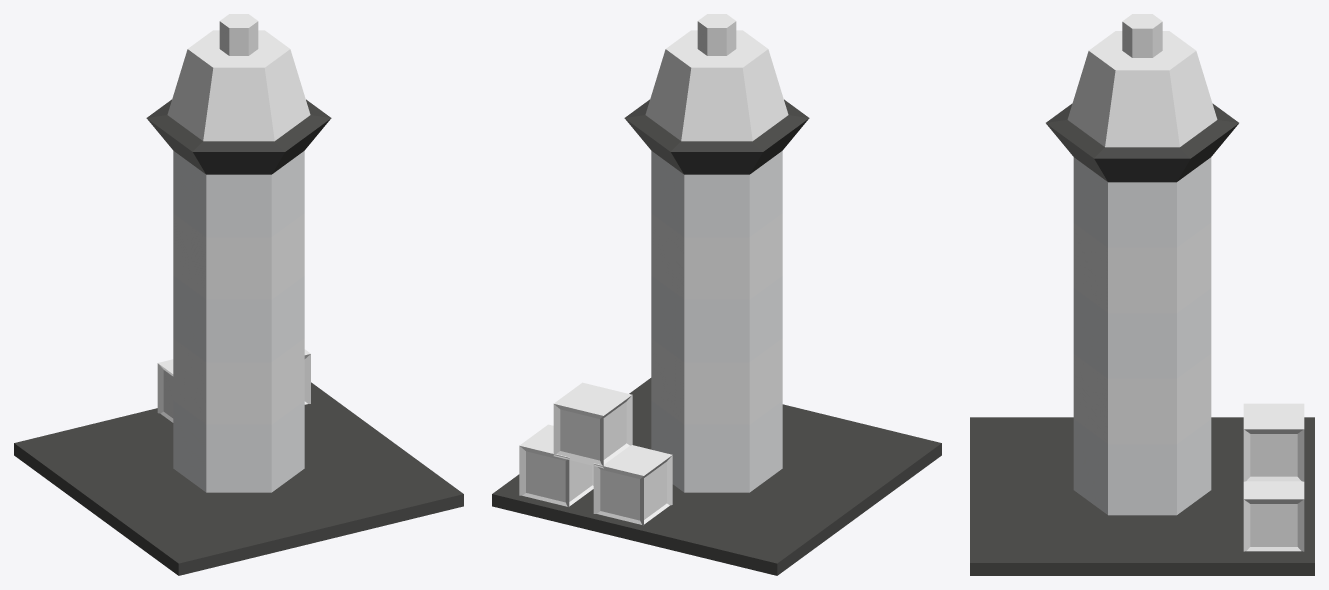
The model's file is Port.fbx.
3 renders of one model, left to right at view 1: azimuth 30°, elevation 25°; view 2: azimuth 150°, elevation 25°; view 3: azimuth 270°, elevation 25°, orthographic. The views are drawn at different scales.
Visible parts, largest first — view 1: Cube.001; view 2: Cube.001; view 3: Cube.001.
Part boxes in pixels (<box>): Cube.001: <box>14,14,463,575</box>; Cube.001: <box>492,14,941,575</box>; Cube.001: <box>970,14,1314,575</box>.
Size of the model in its own units: 502 by 773 by 502.
